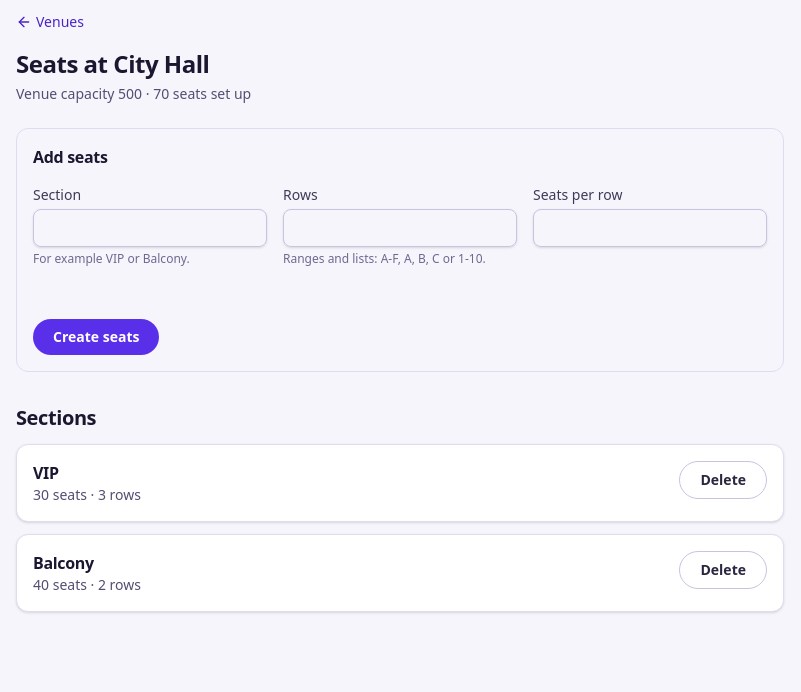
OrganizerSeatsPage › previews, creates the seats and shows the refreshed list
This screenshot has width=801, height=692.
Expected: the text "30 seats · 3 rows" is shown, [33,485,141,505]
In the field labelled "Section": (150, 228) [33,209,267,247], type "Gallery"
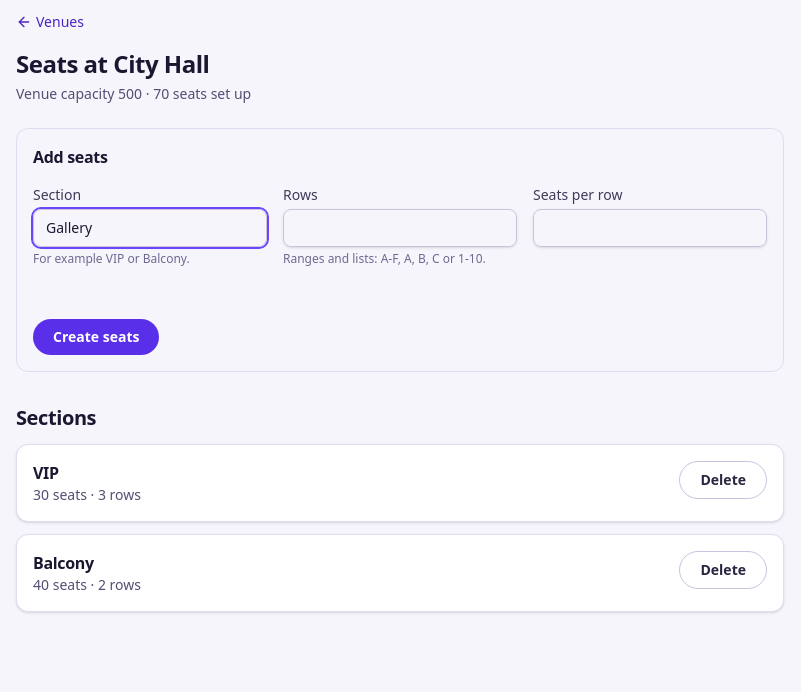
In the field labelled "Rows": (400, 228) [283,209,517,247], type "A-C"
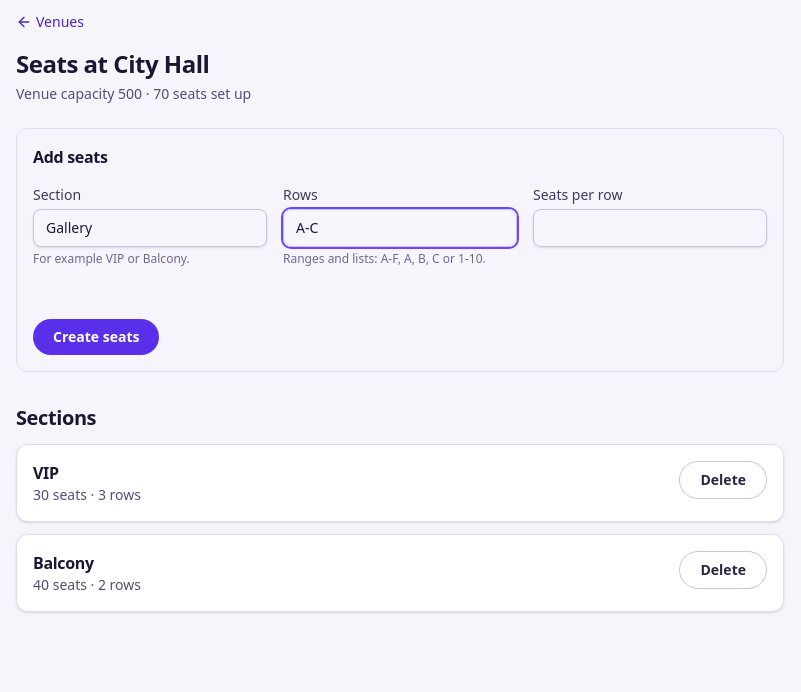
In the number field labelled "Seats per row": (650, 228) [533,209,767,247], type "10"
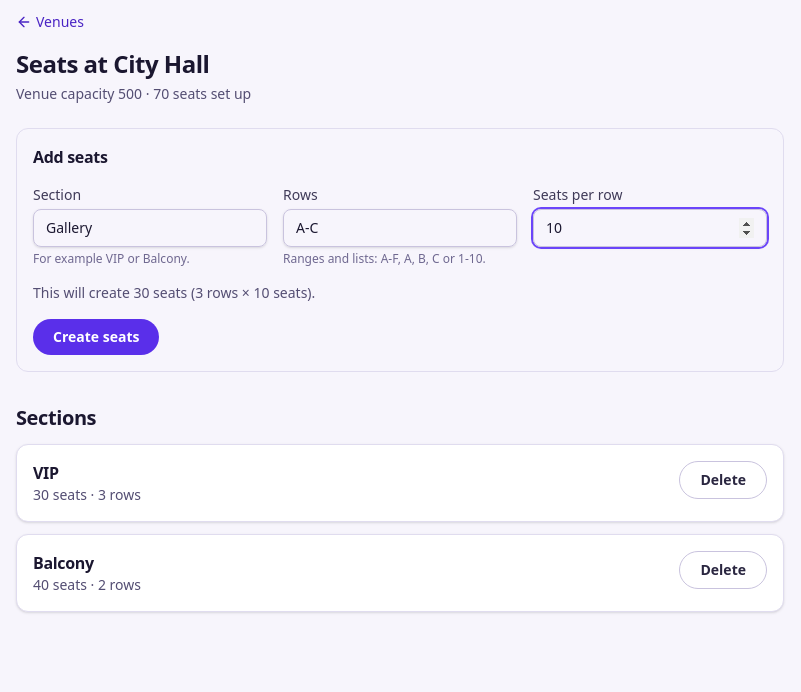
Expected: the text "This will create 30 seats (3 rows × 10 seats)." is shown, [33,283,315,302]
Click the button "Create seats": (96, 337) [33,319,159,355]
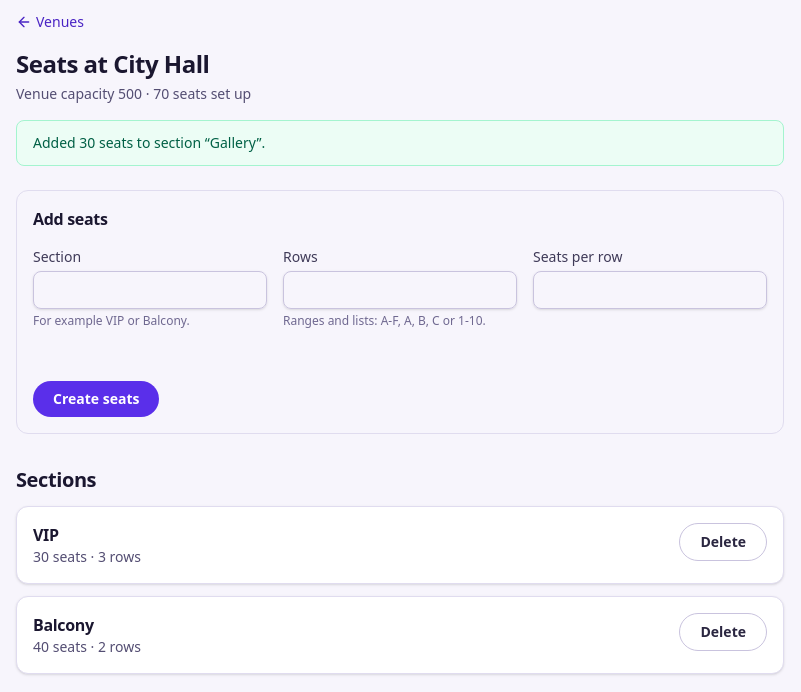
Expected: the text "Added 30 seats to section “Gallery”." is shown, [16,120,784,166]
